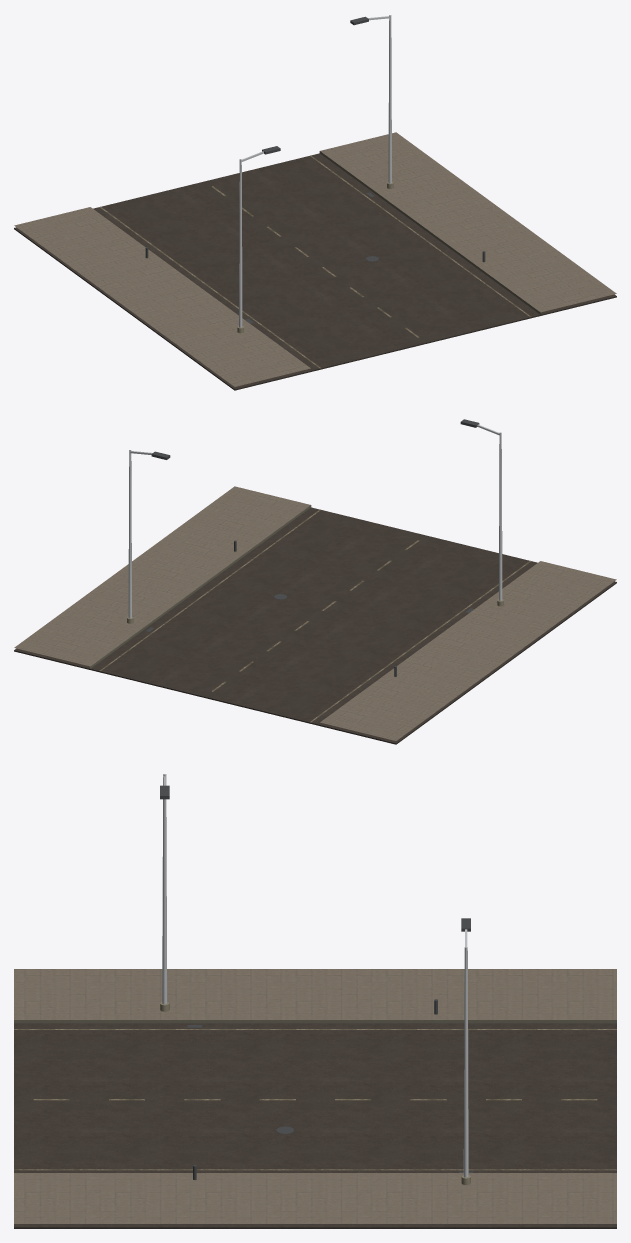
The model's file is road_straight_lights.glb.
The picture shows the model from 3 angles, top to bottom: view 1: azimuth 30°, elevation 25°; view 2: azimuth 150°, elevation 25°; view 3: azimuth 270°, elevation 25°; orthographic projection. The views are drawn at different scales.
Visible parts, largest first — view 1: road_straight_lights_body; view 2: road_straight_lights_body; view 3: road_straight_lights_body.
Part boxes in pixels (left/top/right/bottom): road_straight_lights_body: left=14, top=15, right=616, bottom=390; road_straight_lights_body: left=14, top=419, right=616, bottom=744; road_straight_lights_body: left=14, top=774, right=616, bottom=1228.
Bounding box in the file's own units: 1 × 0.447 × 1.
Materials: 9 (6 with a texture image).
